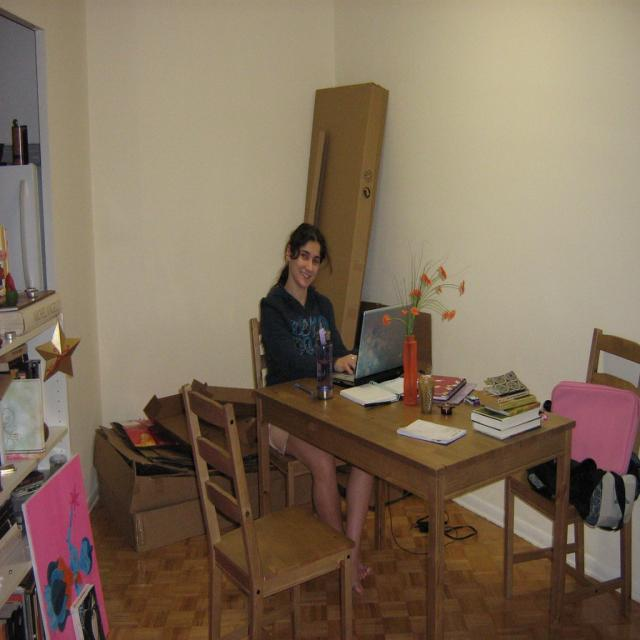chair: (181, 384, 353, 640), (502, 351, 640, 637)
desk: (250, 375, 574, 639)
laptop: (332, 304, 409, 388)
person: (254, 227, 374, 590)
